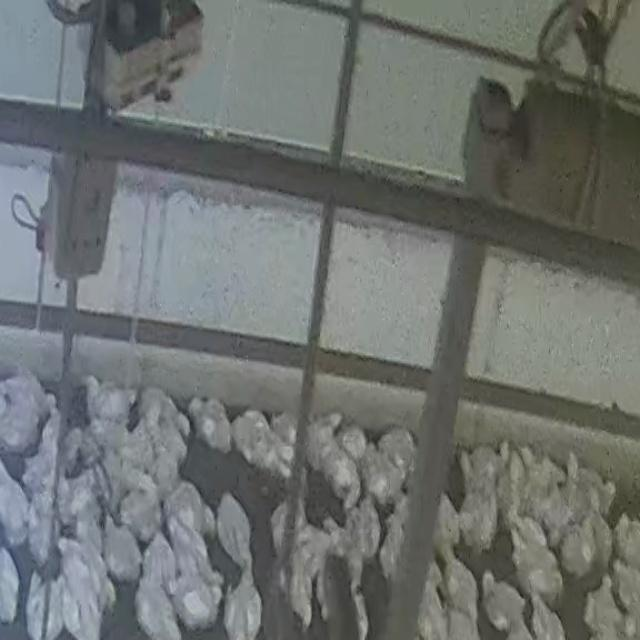chicken: (510, 531, 565, 600), (54, 561, 102, 640), (166, 504, 212, 584), (58, 539, 115, 599), (234, 412, 293, 466), (216, 493, 254, 571), (566, 451, 615, 510), (102, 518, 146, 582), (440, 550, 478, 624), (278, 554, 314, 632), (222, 569, 262, 639), (163, 481, 214, 533), (583, 490, 614, 575), (132, 391, 194, 433), (0, 460, 30, 544), (25, 570, 61, 640), (480, 571, 524, 628), (137, 577, 176, 640), (189, 395, 232, 452), (324, 448, 364, 508), (82, 378, 134, 422), (585, 574, 619, 640), (141, 531, 174, 598), (461, 486, 496, 548), (175, 578, 220, 626), (309, 408, 346, 463), (378, 426, 421, 471), (3, 376, 58, 411), (0, 400, 38, 447), (528, 593, 566, 640), (0, 551, 25, 621), (560, 520, 588, 579), (613, 512, 640, 568), (611, 561, 640, 613)
